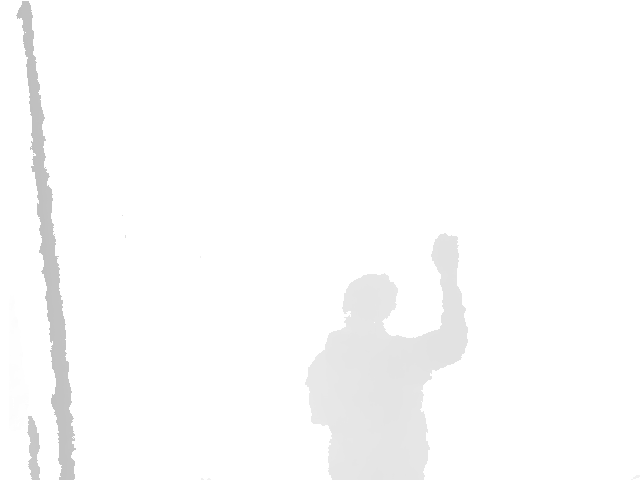hand: (431, 233, 460, 279)
head: (342, 273, 398, 329)
person: (304, 233, 470, 480)
